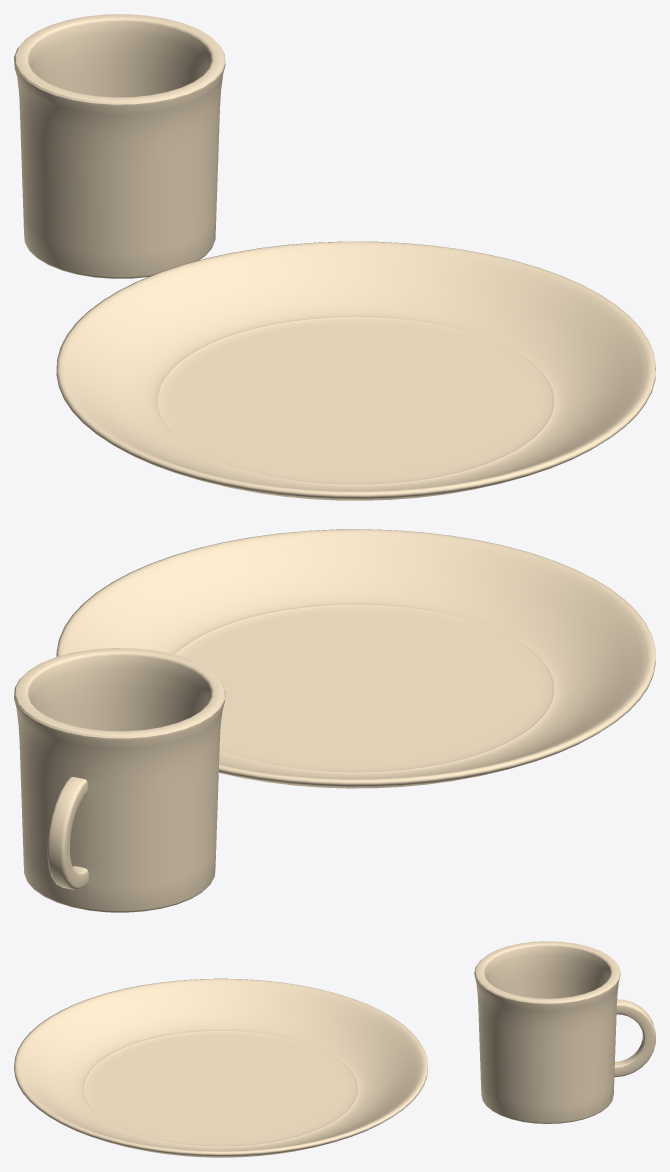
The model's file is DesyunoVacio.fbx.
3 views of the same model, one above another, from view 1: azimuth 30°, elevation 25°; view 2: azimuth 150°, elevation 25°; view 3: azimuth 270°, elevation 25° (orthographic). The views are drawn at different scales.
Visible parts, largest first — view 1: Plato, Taza; view 2: Plato, Taza; view 3: Plato, Taza.
Boxes of the visible parts, x1=… form: Plato: x1=56, y1=241, x2=655, y2=500; Taza: x1=14, y1=14, x2=225, y2=278; Plato: x1=56, y1=529, x2=655, y2=788; Taza: x1=14, y1=648, x2=225, y2=912; Plato: x1=14, y1=978, x2=427, y2=1157; Taza: x1=474, y1=941, x2=655, y2=1123.
Bounding box in the file's own units: 597 × 202 × 926.
